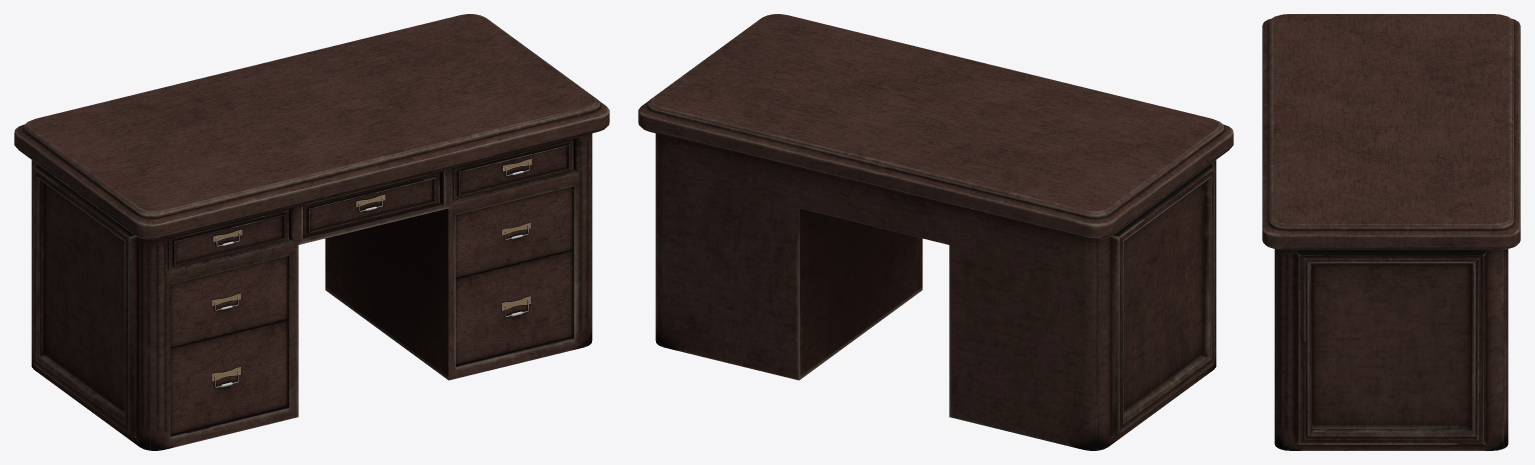
The model's file is Desk_2.fbx.
3 views of the same model, side by side, from view 1: azimuth 30°, elevation 25°; view 2: azimuth 150°, elevation 25°; view 3: azimuth 270°, elevation 25° (orthographic). The views are drawn at different scales.
Parts seen in each view (by area): view 1: Desk_2; view 2: Desk_2; view 3: Desk_2.
Part boxes in pixels (x1,y1,x2,y2): Desk_2: [14, 14, 609, 450]; Desk_2: [638, 14, 1233, 450]; Desk_2: [1262, 14, 1520, 450].
Bounding box in the file's own units: 2.1 × 1.05 × 1.02.
2 materials, 2 textured.
